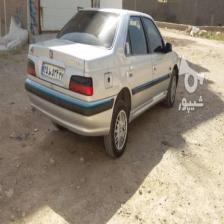plate: (41, 59, 63, 78)
